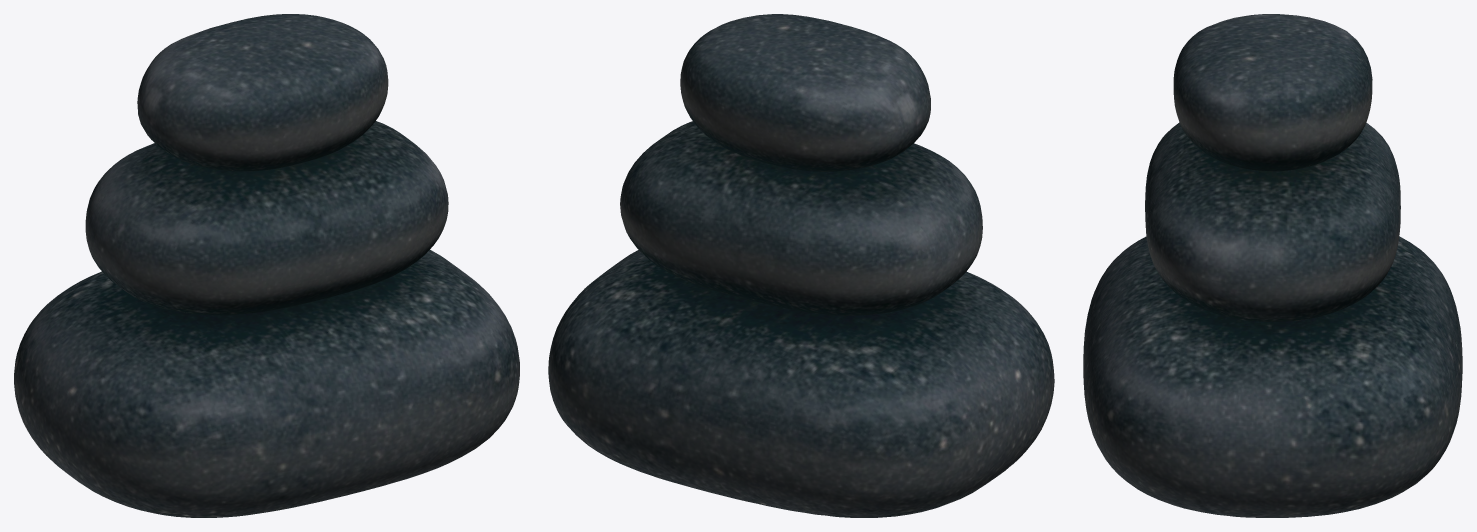
File: zen-rock-stack.glb
The picture shows the model from 3 angles, left to right: view 1: azimuth 30°, elevation 25°; view 2: azimuth 150°, elevation 25°; view 3: azimuth 270°, elevation 25°; orthographic projection. The views are drawn at different scales.
Visible parts, largest first — view 1: world; view 2: world; view 3: world.
Part boxes in pixels (x1=…): world: x1=14, y1=14, x2=519, y2=517; world: x1=548, y1=14, x2=1054, y2=517; world: x1=1083, y1=14, x2=1462, y2=517.
Bounding box in the file's own units: 1 × 0.9039 × 0.7767.
1 material, 1 textured.
